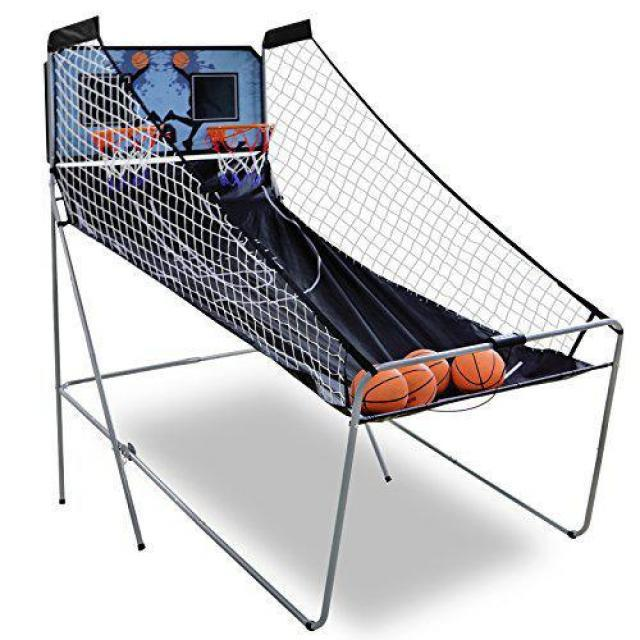Basketball: (350, 364, 410, 416), (386, 360, 437, 410), (452, 347, 506, 393), (403, 350, 451, 396)
hoop: (204, 123, 276, 199), (92, 126, 165, 192)
